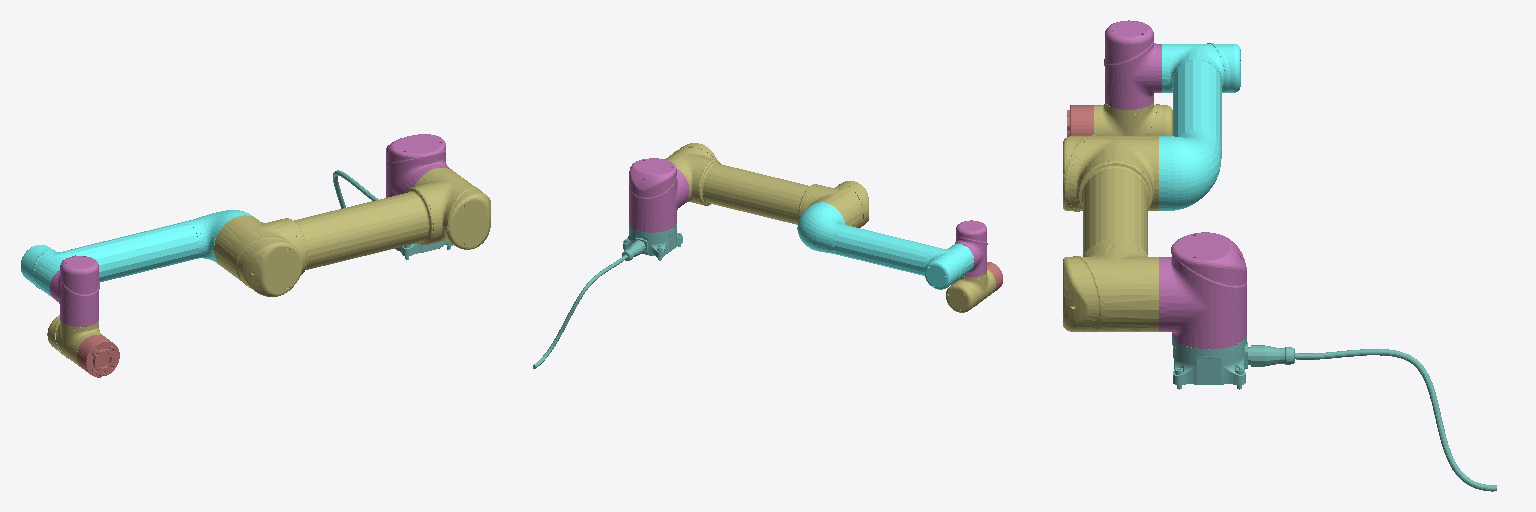
robot.urdf — 7260501-000000-001 TB6-R5-RevA1-URDF:
<?xml version="1.0" encoding="utf-8"?>
<!-- This URDF was automatically created by SolidWorks to URDF Exporter! Originally created by Stephen Brawner (brawner@gmail.com) 
     Commit Version: 1.6.0-4-g7f85cfe  Build Version: 1.6.7995.38578
     For more information, please see http://wiki.ros.org/sw_urdf_exporter -->
<robot
  name="7260501-000000-001 TB6-R5-RevA1-URDF">
  <link
    name="base_link">
    <inertial>
      <origin
        xyz="0.0014058 0.02448 0.022681"
        rpy="0 0 0" />
      <mass
        value="5.0487" />
      <inertia
        ixx="0.016738"
        ixy="-0.0014542"
        ixz="0.0008442"
        iyy="0.0075316"
        iyz="0.0035371"
        izz="0.018135" />
    </inertial>
    <visual>
      <origin
        xyz="0 0 0"
        rpy="0 0 0" />
      <geometry>
        <mesh
          filename="package://7260501-000000-001 TB6-R5-RevA1-URDF/meshes/base_link.STL" />
      </geometry>
      <material
        name="">
        <color
          rgba="0.5 0.75686 0.73725 1" />
      </material>
    </visual>
    <collision>
      <origin
        xyz="0 0 0"
        rpy="0 0 0" />
      <geometry>
        <mesh
          filename="package://7260501-000000-001 TB6-R5-RevA1-URDF/meshes/base_link.STL" />
      </geometry>
    </collision>
  </link>
  <link
    name="Link1">
    <inertial>
      <origin
        xyz="1.0637E-05 -0.005295 0.072879"
        rpy="0 0 0" />
      <mass
        value="13.203" />
      <inertia
        ixx="0.036031"
        ixy="-3.8622E-06"
        ixz="-1.1182E-05"
        iyy="0.035299"
        iyz="0.0002299"
        izz="0.025263" />
    </inertial>
    <visual>
      <origin
        xyz="0 0 0"
        rpy="0 0 0" />
      <geometry>
        <mesh
          filename="package://7260501-000000-001 TB6-R5-RevA1-URDF/meshes/Link1.STL" />
      </geometry>
      <material
        name="">
        <color
          rgba="0.77647 0.5 0.73725 1" />
      </material>
    </visual>
    <collision>
      <origin
        xyz="0 0 0"
        rpy="0 0 0" />
      <geometry>
        <mesh
          filename="package://7260501-000000-001 TB6-R5-RevA1-URDF/meshes/Link1.STL" />
      </geometry>
    </collision>
  </link>
  <joint
    name="joint1"
    type="revolute">
    <origin
      xyz="0 0 0.0615"
      rpy="0 0 0" />
    <parent
      link="base_link" />
    <child
      link="Link1" />
    <axis
      xyz="0 0 1" />
    <limit
      lower="-3.1415"
      upper="3.1415"
      effort="0"
      velocity="0" />
  </joint>
  <link
    name="Link2">
    <inertial>
      <origin
        xyz="-0.22081 -6.9449E-08 0.070574"
        rpy="0 0 0" />
      <mass
        value="46.802" />
      <inertia
        ixx="0.096336"
        ixy="7.1144E-05"
        ixz="-6.6924E-06"
        iyy="1.4978"
        iyz="1.3382E-08"
        izz="1.476" />
    </inertial>
    <visual>
      <origin
        xyz="0 0 0"
        rpy="0 0 0" />
      <geometry>
        <mesh
          filename="package://7260501-000000-001 TB6-R5-RevA1-URDF/meshes/Link2.STL" />
      </geometry>
      <material
        name="">
        <color
          rgba="0.77647 0.75686 0.5 1" />
      </material>
    </visual>
    <collision>
      <origin
        xyz="0 0 0"
        rpy="0 0 0" />
      <geometry>
        <mesh
          filename="package://7260501-000000-001 TB6-R5-RevA1-URDF/meshes/Link2.STL" />
      </geometry>
    </collision>
  </link>
  <joint
    name="joint2"
    type="revolute">
    <origin
      xyz="0 -0.078 0.0675"
      rpy="1.5708 0 0" />
    <parent
      link="Link1" />
    <child
      link="Link2" />
    <axis
      xyz="0 0 1" />
    <limit
      lower="-3.1415"
      upper="3.1415"
      effort="0"
      velocity="0" />
  </joint>
  <link
    name="Link3">
    <inertial>
      <origin
        xyz="-0.1918 -8.518E-08 -0.055853"
        rpy="0 0 0" />
      <mass
        value="20.24" />
      <inertia
        ixx="0.021341"
        ixy="1.5692E-06"
        ixz="-0.01879"
        iyy="0.42906"
        iyz="1.3915E-07"
        izz="0.42608" />
    </inertial>
    <visual>
      <origin
        xyz="0 0 0"
        rpy="0 0 0" />
      <geometry>
        <mesh
          filename="package://7260501-000000-001 TB6-R5-RevA1-URDF/meshes/Link3.STL" />
      </geometry>
      <material
        name="">
        <color
          rgba="0.5 1 1 1" />
      </material>
    </visual>
    <collision>
      <origin
        xyz="0 0 0"
        rpy="0 0 0" />
      <geometry>
        <mesh
          filename="package://7260501-000000-001 TB6-R5-RevA1-URDF/meshes/Link3.STL" />
      </geometry>
    </collision>
  </link>
  <joint
    name="joint3"
    type="revolute">
    <origin
      xyz="-0.442 0 -0.0003"
      rpy="0 0 0" />
    <parent
      link="Link2" />
    <child
      link="Link3" />
    <axis
      xyz="0 0 1" />
    <limit
      lower="-2.8623"
      upper="2.8623"
      effort="0"
      velocity="0" />
  </joint>
  <link
    name="Link4">
    <inertial>
      <origin
        xyz="1.8594E-07 0.0056527 0.048012"
        rpy="0 0 0" />
      <mass
        value="4.6142" />
      <inertia
        ixx="0.0068327"
        ixy="-1.1466E-07"
        ixz="-2.7757E-08"
        iyy="0.0037508"
        iyz="-3.3742E-06"
        izz="0.0066952" />
    </inertial>
    <visual>
      <origin
        xyz="0 0 0"
        rpy="0 0 0" />
      <geometry>
        <mesh
          filename="package://7260501-000000-001 TB6-R5-RevA1-URDF/meshes/Link4.STL" />
      </geometry>
      <material
        name="">
        <color
          rgba="0.77647 0.5 0.73725 1" />
      </material>
    </visual>
    <collision>
      <origin
        xyz="0 0 0"
        rpy="0 0 0" />
      <geometry>
        <mesh
          filename="package://7260501-000000-001 TB6-R5-RevA1-URDF/meshes/Link4.STL" />
      </geometry>
    </collision>
  </link>
  <joint
    name="joint4"
    type="revolute">
    <origin
      xyz="-0.386 0 -0.0044"
      rpy="0 0 0" />
    <parent
      link="Link3" />
    <child
      link="Link4" />
    <axis
      xyz="0 0 1" />
    <limit
      lower="-3.1415"
      upper="3.1415"
      effort="0"
      velocity="0" />
  </joint>
  <link
    name="Link5">
    <inertial>
      <origin
        xyz="2.1811E-06 -0.0034366 0.048188"
        rpy="0 0 0" />
      <mass
        value="4.7679" />
      <inertia
        ixx="0.0074585"
        ixy="-1.3429E-07"
        ixz="4.9428E-08"
        iyy="0.0038192"
        iyz="-2.0198E-05"
        izz="0.0073306" />
    </inertial>
    <visual>
      <origin
        xyz="0 0 0"
        rpy="0 0 0" />
      <geometry>
        <mesh
          filename="package://7260501-000000-001 TB6-R5-RevA1-URDF/meshes/Link5.STL" />
      </geometry>
      <material
        name="">
        <color
          rgba="0.77647 0.75686 0.5 1" />
      </material>
    </visual>
    <collision>
      <origin
        xyz="0 0 0"
        rpy="0 0 0" />
      <geometry>
        <mesh
          filename="package://7260501-000000-001 TB6-R5-RevA1-URDF/meshes/Link5.STL" />
      </geometry>
    </collision>
  </link>
  <joint
    name="joint5"
    type="revolute">
    <origin
      xyz="0 -0.0543 0.0507"
      rpy="1.5708 0 0" />
    <parent
      link="Link4" />
    <child
      link="Link5" />
    <axis
      xyz="0 0 1" />
    <limit
      lower="-3.1415"
      upper="3.1415"
      effort="0"
      velocity="0" />
  </joint>
  <link
    name="ee_Link">
    <inertial>
      <origin
        xyz="-2.6515E-06 -9.8103E-05 0.021947"
        rpy="0 0 0" />
      <mass
        value="1.1773" />
      <inertia
        ixx="0.00055403"
        ixy="-3.3367E-08"
        ixz="1.2748E-07"
        iyy="0.00055279"
        iyz="4.7003E-06"
        izz="0.000873" />
    </inertial>
    <visual>
      <origin
        xyz="0 0 0"
        rpy="0 0 0" />
      <geometry>
        <mesh
          filename="package://7260501-000000-001 TB6-R5-RevA1-URDF/meshes/ee_Link.STL" />
      </geometry>
      <material
        name="">
        <color
          rgba="0.77647 0.5 0.5 1" />
      </material>
    </visual>
    <collision>
      <origin
        xyz="0 0 0"
        rpy="0 0 0" />
      <geometry>
        <mesh
          filename="package://7260501-000000-001 TB6-R5-RevA1-URDF/meshes/ee_Link.STL" />
      </geometry>
    </collision>
  </link>
  <joint
    name="joint6"
    type="revolute">
    <origin
      xyz="0 0.0543 0.0507"
      rpy="-1.5708 0 0" />
    <parent
      link="Link5" />
    <child
      link="ee_Link" />
    <axis
      xyz="0 0 -1" />
    <limit
      lower="-3.1415"
      upper="3.1415"
      effort="0"
      velocity="0" />
  </joint>
</robot>

--- Facts derived from the render (not from the file) ---
Views: 3 orthographic renders of the robot side by side, from view 1: azimuth 30°, elevation 25°; view 2: azimuth 150°, elevation 25°; view 3: azimuth 270°, elevation 25°.
Robot: 7260501-000000-001 TB6-R5-RevA1-URDF — 7 links, 6 joints (6 revolute); root link base_link; default pose: every joint at zero.
Visible links, largest first — view 1: Link2, Link3, Link4, Link1, ee_Link, Link5, base_link; view 2: Link2, Link3, Link1, base_link, Link5, Link4; view 3: Link2, Link3, Link1, base_link, Link4, Link5, ee_Link.
Link boxes in pixels (x1,y1,x2,y2): Link2: [214, 168, 490, 296]; Link3: [21, 210, 254, 298]; Link4: [50, 256, 99, 326]; Link1: [386, 134, 451, 197]; ee_Link: [77, 335, 119, 377]; Link5: [47, 315, 104, 366]; base_link: [333, 170, 452, 259]; Link2: [665, 143, 868, 227]; Link3: [797, 202, 974, 289]; Link1: [629, 158, 688, 232]; base_link: [533, 224, 682, 368]; Link5: [946, 270, 995, 312]; Link4: [955, 220, 987, 276]; Link2: [1063, 135, 1158, 331]; Link3: [1159, 43, 1240, 210]; Link1: [1159, 232, 1246, 348]; base_link: [1172, 335, 1496, 491]; Link4: [1104, 20, 1161, 109]; Link5: [1094, 101, 1172, 135]; ee_Link: [1067, 105, 1093, 136].
Size in the robot's own frame: 0.9499 by 0.6733 by 0.382 metres.
Meshes: 7 distinct files referenced, 7 mesh visuals loaded (7 binary STL).
